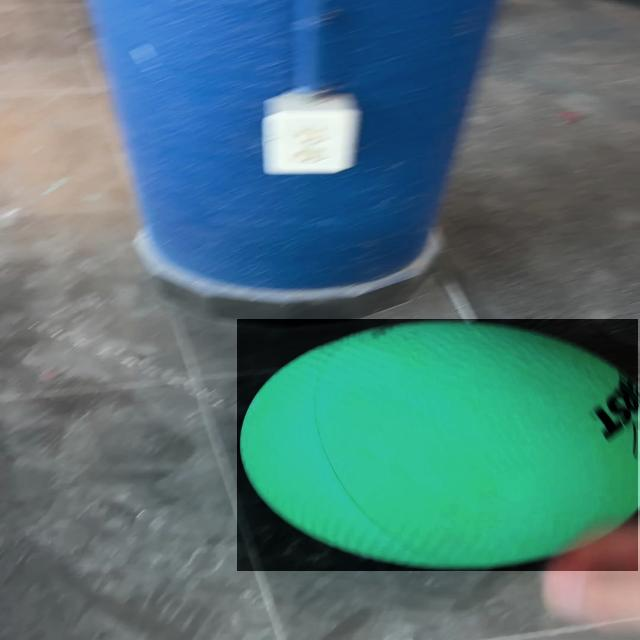Algae: (237, 319, 638, 571)
